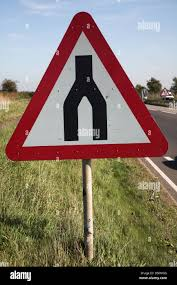narrow-road: (7, 9, 170, 157)
